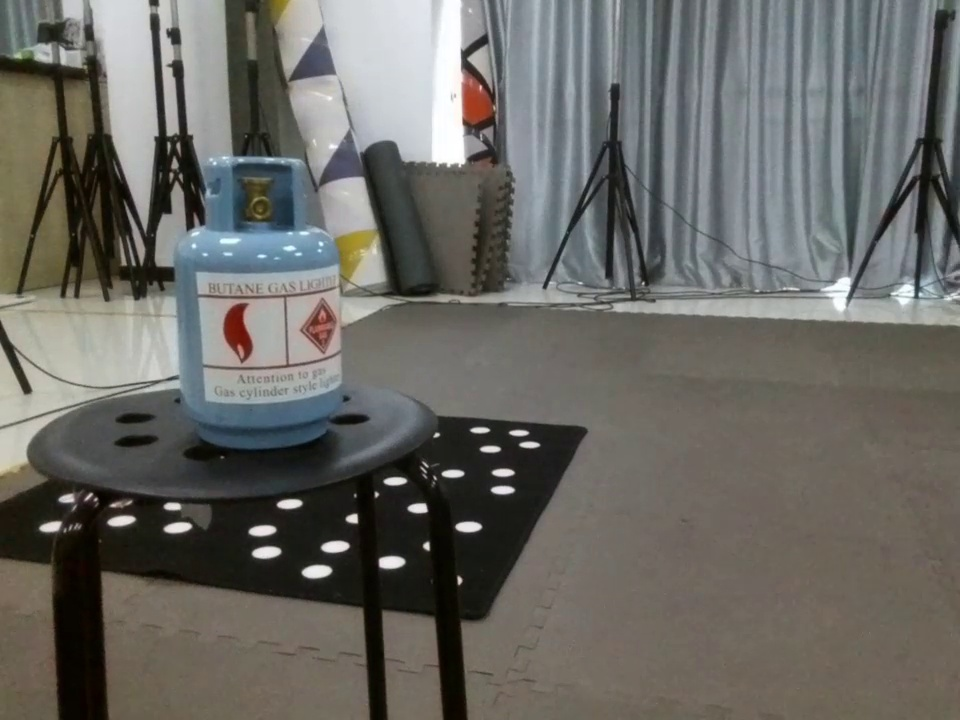gas tank: (163, 150, 364, 450)
